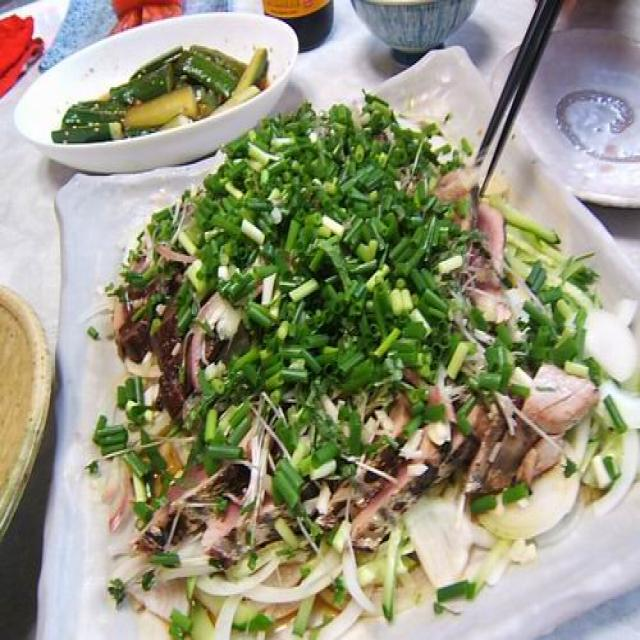熟制海鲜: (72, 90, 609, 608)
